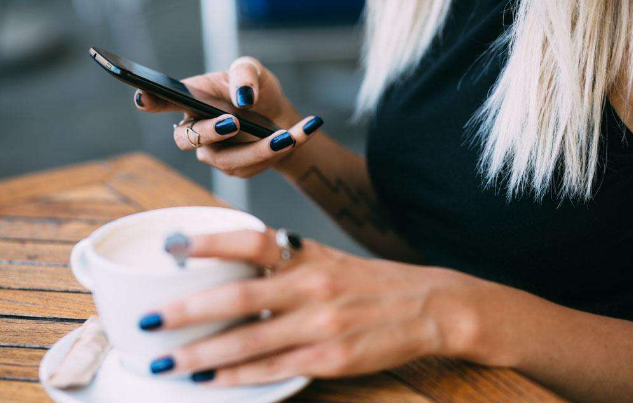reading: (86, 40, 325, 179)
